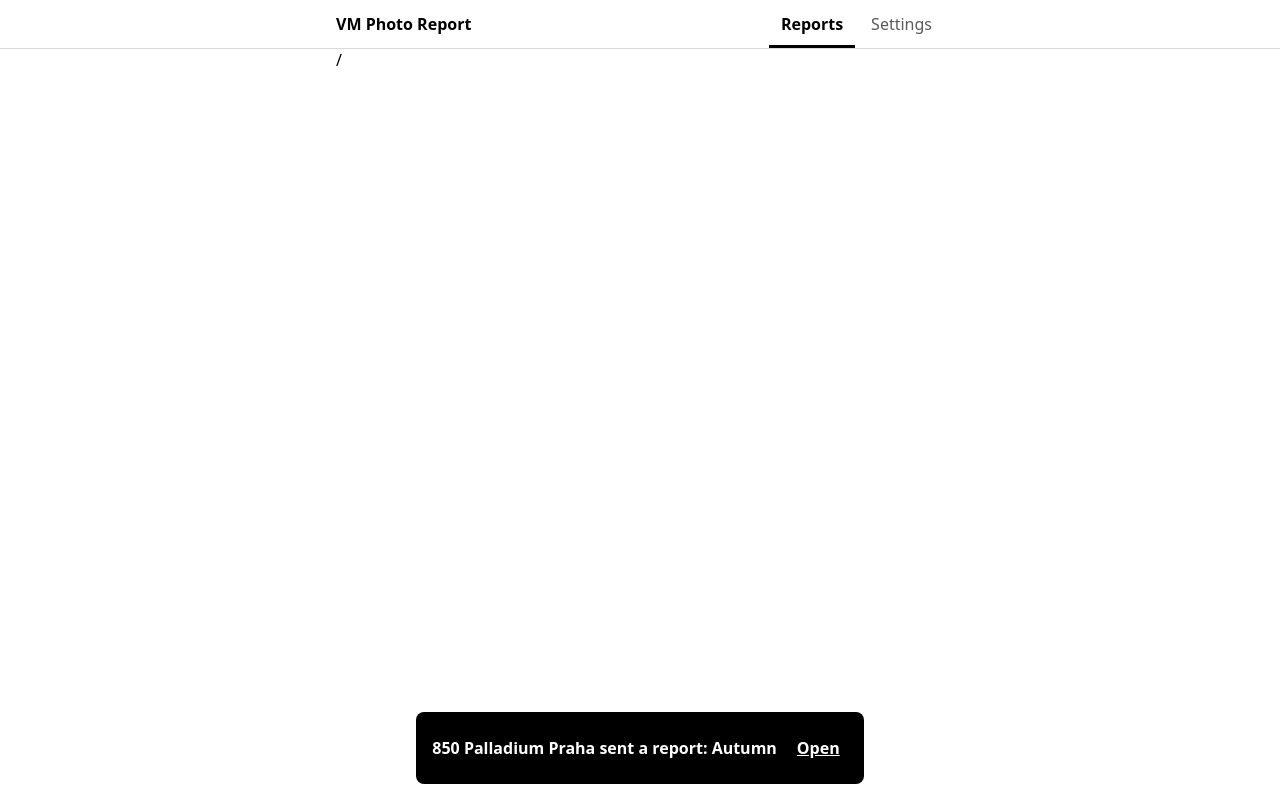
Test: Layout foreground pushes › a push that arrives while the app is open shows its text and Open, which goes to the link in the app
The width and height of the screenshot is (1280, 800).
Expected: the message shows "850 Palladium Praha sent a report: Autumn", [432, 737, 777, 759]
Click the button "Open": (818, 748) [789, 724, 848, 772]
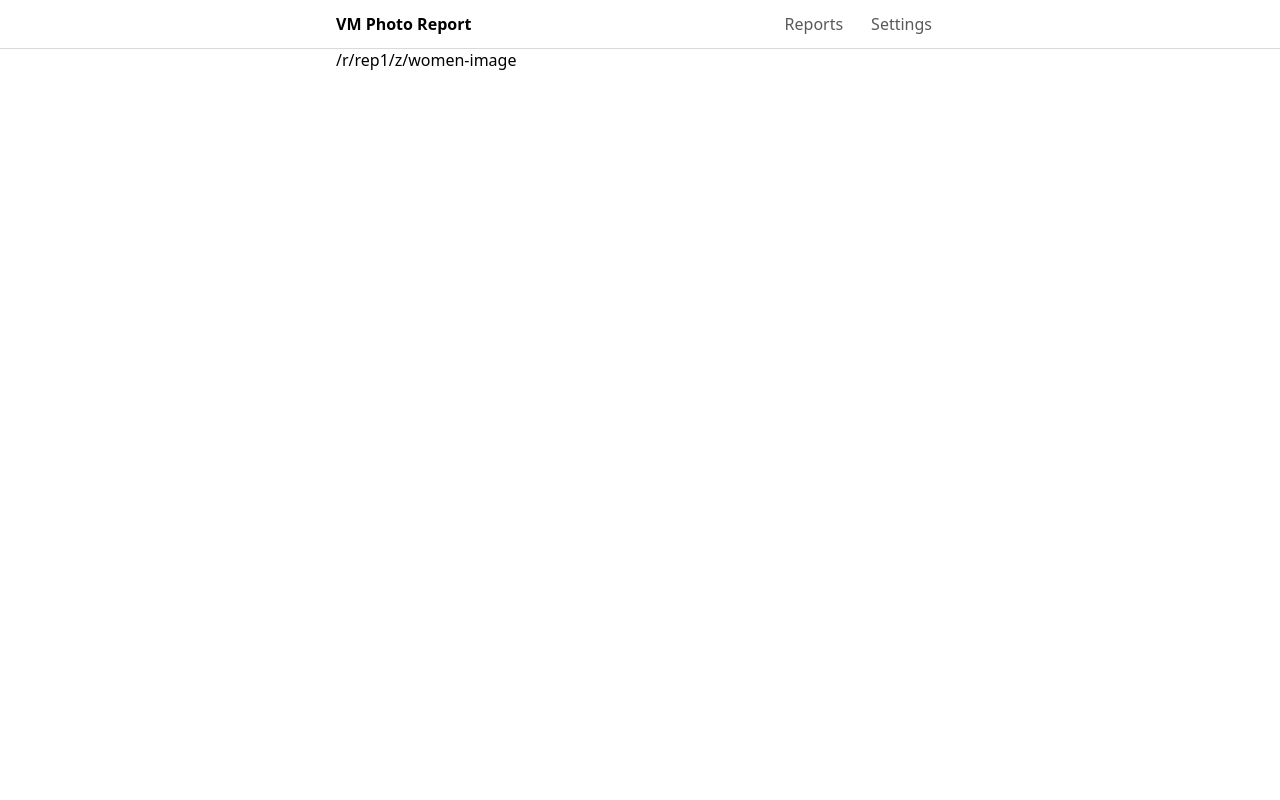
Expected: the text with test id "where" reads "/r/rep1/z/women-image", [336, 49, 516, 71]
